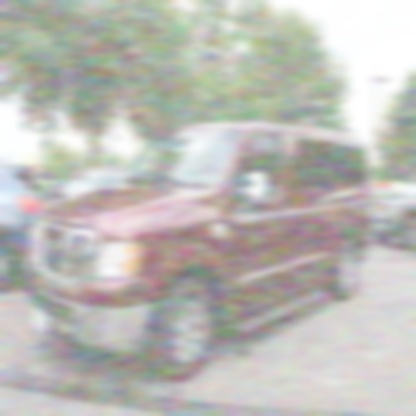Vehicle: (24, 122, 372, 384)
